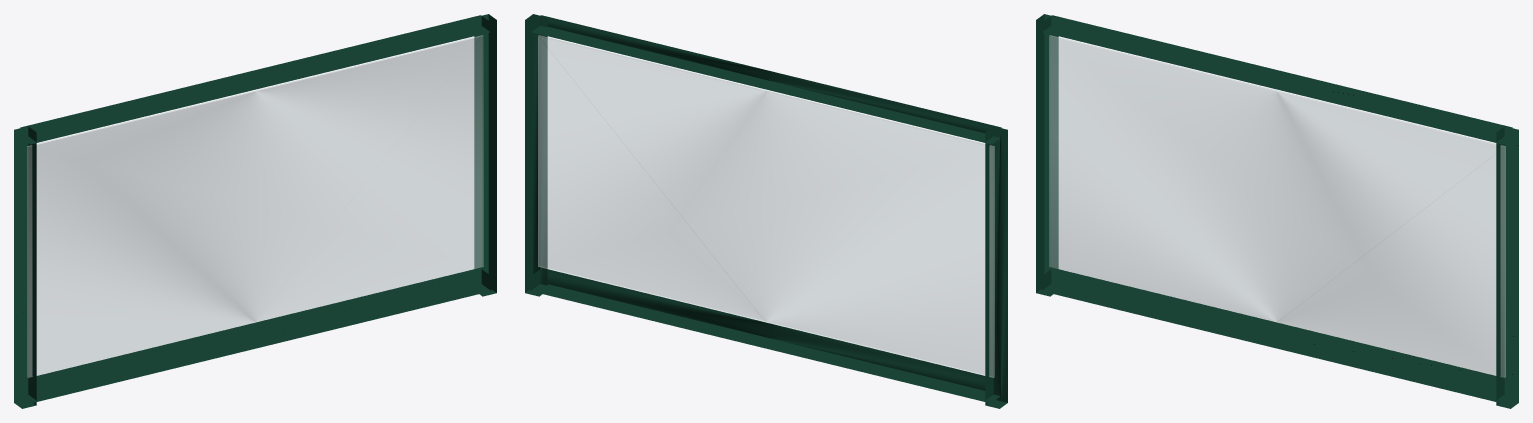
File: ograjca-steklo-6005.glb
The picture shows the model from 3 angles, left to right: view 1: azimuth 30°, elevation 25°; view 2: azimuth 150°, elevation 25°; view 3: azimuth 330°, elevation 25°; orthographic projection.
Visible parts, largest first — view 1: Node_steklo, Node_kovina; view 2: Node_steklo, Node_kovina; view 3: Node_steklo, Node_kovina.
Boxes of the visible parts, box(x1,y1,x2,y2) form: Node_steklo: box(27, 35, 483, 377); Node_kovina: box(14, 14, 496, 408); Node_steklo: box(538, 35, 994, 377); Node_kovina: box(525, 14, 1007, 408); Node_steklo: box(1049, 35, 1505, 377); Node_kovina: box(1036, 14, 1518, 408).
Bounding box in the file's own units: 2 × 1.1 × 0.084.
